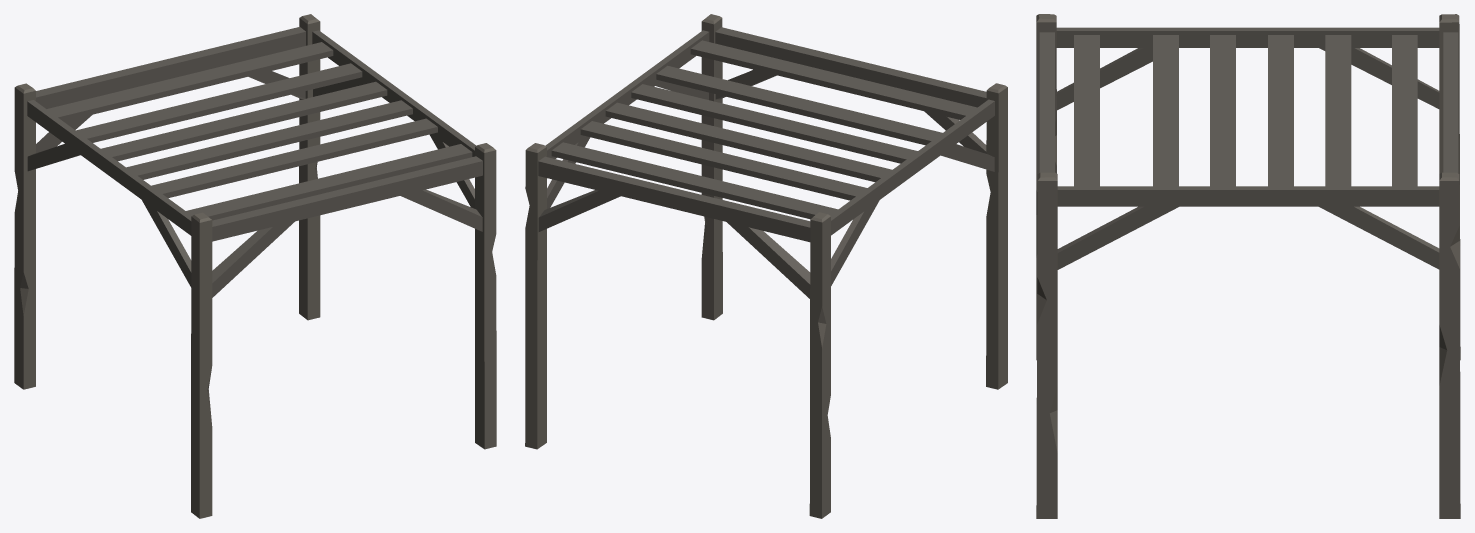
The model's file is SM_Bld_Village_ClothCover_Large_02.fbx.
3 views of the same model, side by side, from view 1: azimuth 30°, elevation 25°; view 2: azimuth 150°, elevation 25°; view 3: azimuth 270°, elevation 25° (orthographic). The views are drawn at different scales.
Parts seen in each view (by area): view 1: SM_Bld_Village_ClothCover_Large_02; view 2: SM_Bld_Village_ClothCover_Large_02; view 3: SM_Bld_Village_ClothCover_Large_02.
Part boxes in pixels (left/top/right/bottom): SM_Bld_Village_ClothCover_Large_02: left=14, top=14, right=496, bottom=518; SM_Bld_Village_ClothCover_Large_02: left=525, top=14, right=1007, bottom=518; SM_Bld_Village_ClothCover_Large_02: left=1036, top=14, right=1460, bottom=518.
Size of the model in its own units: 417 by 400 by 452.
